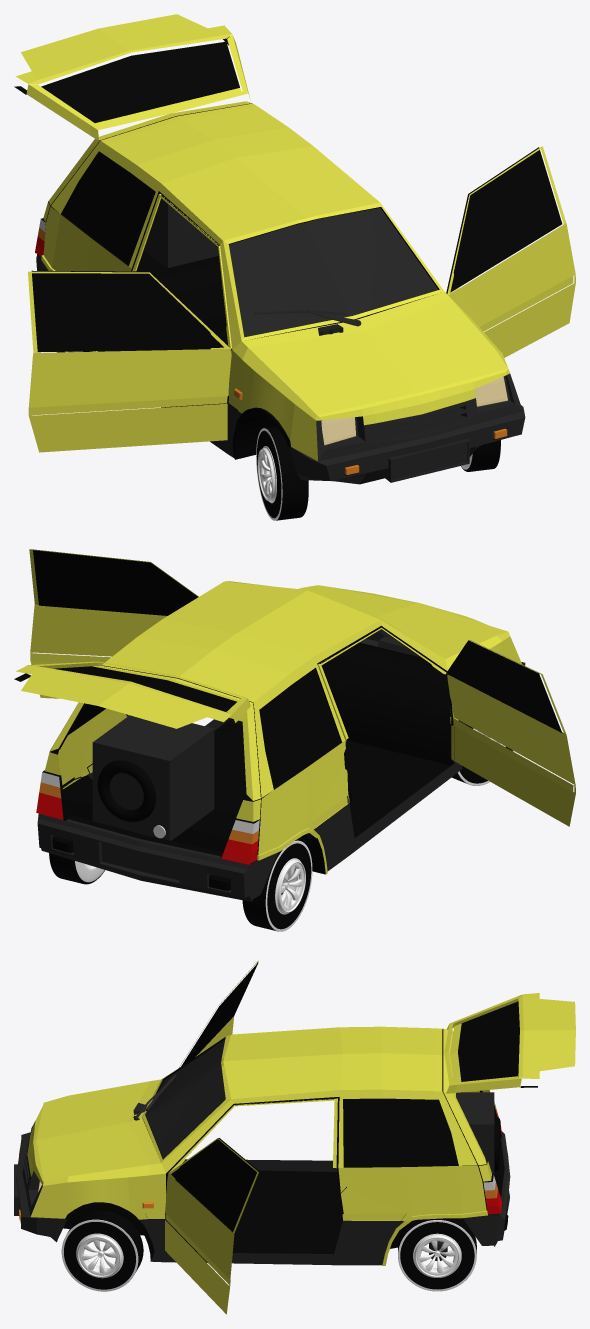
Rendered from hatchMedio.glb.
3 views of the same model, one above another, from view 1: azimuth 30°, elevation 25°; view 2: azimuth 150°, elevation 25°; view 3: azimuth 270°, elevation 25° (orthographic). The views are drawn at different scales.
Visible parts, largest first — view 1: Плоскость, Плоскость.005, Плоскость.004, Плоскость.002, Цилиндр.000, Cube, Куб, Плоскость.001; view 2: Плоскость, Плоскость.005, Cube, Плоскость.004, Цилиндр.001, Torus; view 3: Плоскость, Плоскость.005, Плоскость.004, Цилиндр.000, Плоскость.002, Цилиндр.001, Cube, Плоскость.001.
Boxes of the visible parts, <box> form: Плоскость: <box>35,101,525,484</box>; Плоскость.005: <box>28,146,575,452</box>; Плоскость.004: <box>14,14,249,139</box>; Плоскость.002: <box>229,208,438,337</box>; Цилиндр.000: <box>256,426,500,520</box>; Cube: <box>143,198,218,267</box>; Куб: <box>379,439,469,482</box>; Плоскость.001: <box>249,371,294,440</box>; Плоскость: <box>36,581,525,901</box>; Плоскость.005: <box>29,549,575,826</box>; Cube: <box>92,715,214,840</box>; Плоскость.004: <box>14,661,250,730</box>; Цилиндр.001: <box>49,840,312,931</box>; Torus: <box>97,760,156,822</box>; Плоскость: <box>16,1026,510,1265</box>; Плоскость.005: <box>165,961,258,1314</box>; Плоскость.004: <box>444,993,575,1093</box>; Цилиндр.000: <box>61,1210,143,1291</box>; Плоскость.002: <box>145,1039,225,1158</box>; Цилиндр.001: <box>398,1218,476,1291</box>; Cube: <box>456,1092,494,1181</box>; Плоскость.001: <box>67,1177,128,1213</box>.
Size of the model in its own units: 5.82 by 2.61 by 6.13.
